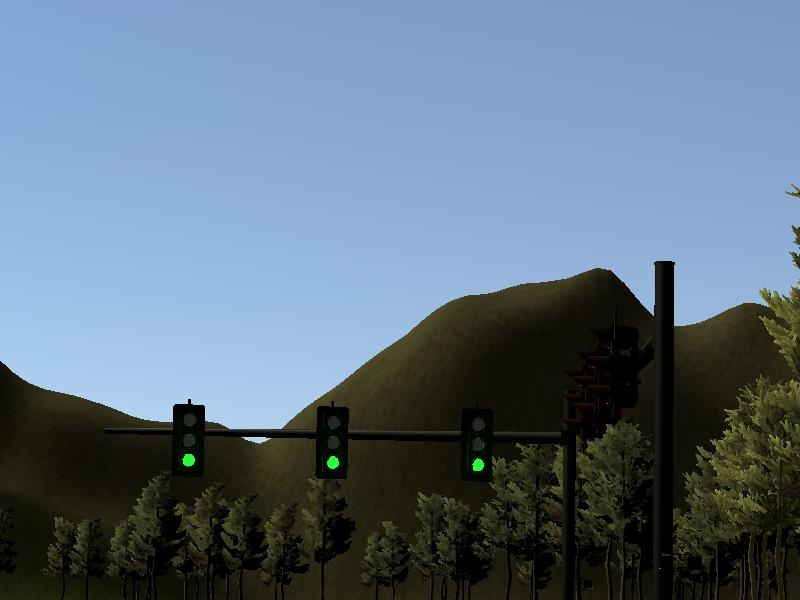GREEN: (462, 409, 494, 480), (316, 404, 348, 475), (172, 404, 204, 475)
